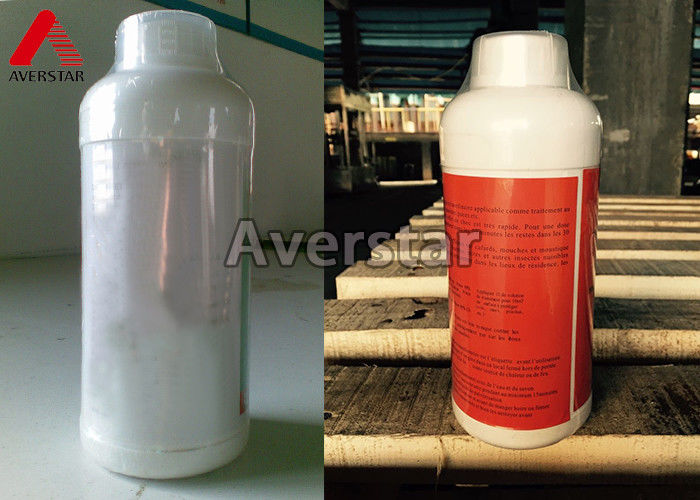Insecticide: (76, 7, 260, 477), (434, 27, 600, 448)
